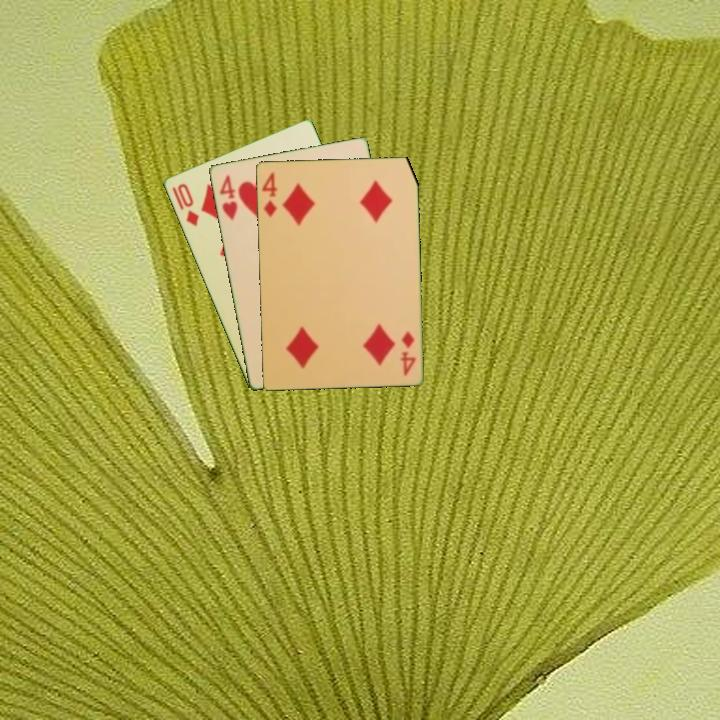10d: (168, 180, 202, 229)
4d: (258, 168, 280, 220), (397, 327, 418, 378)
4h: (216, 171, 240, 223)
